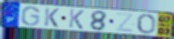8: (89, 10, 108, 32)
G: (20, 6, 41, 27)
K: (68, 8, 86, 30), (44, 7, 61, 29)
O: (137, 14, 157, 35)
Z: (116, 12, 136, 34)
